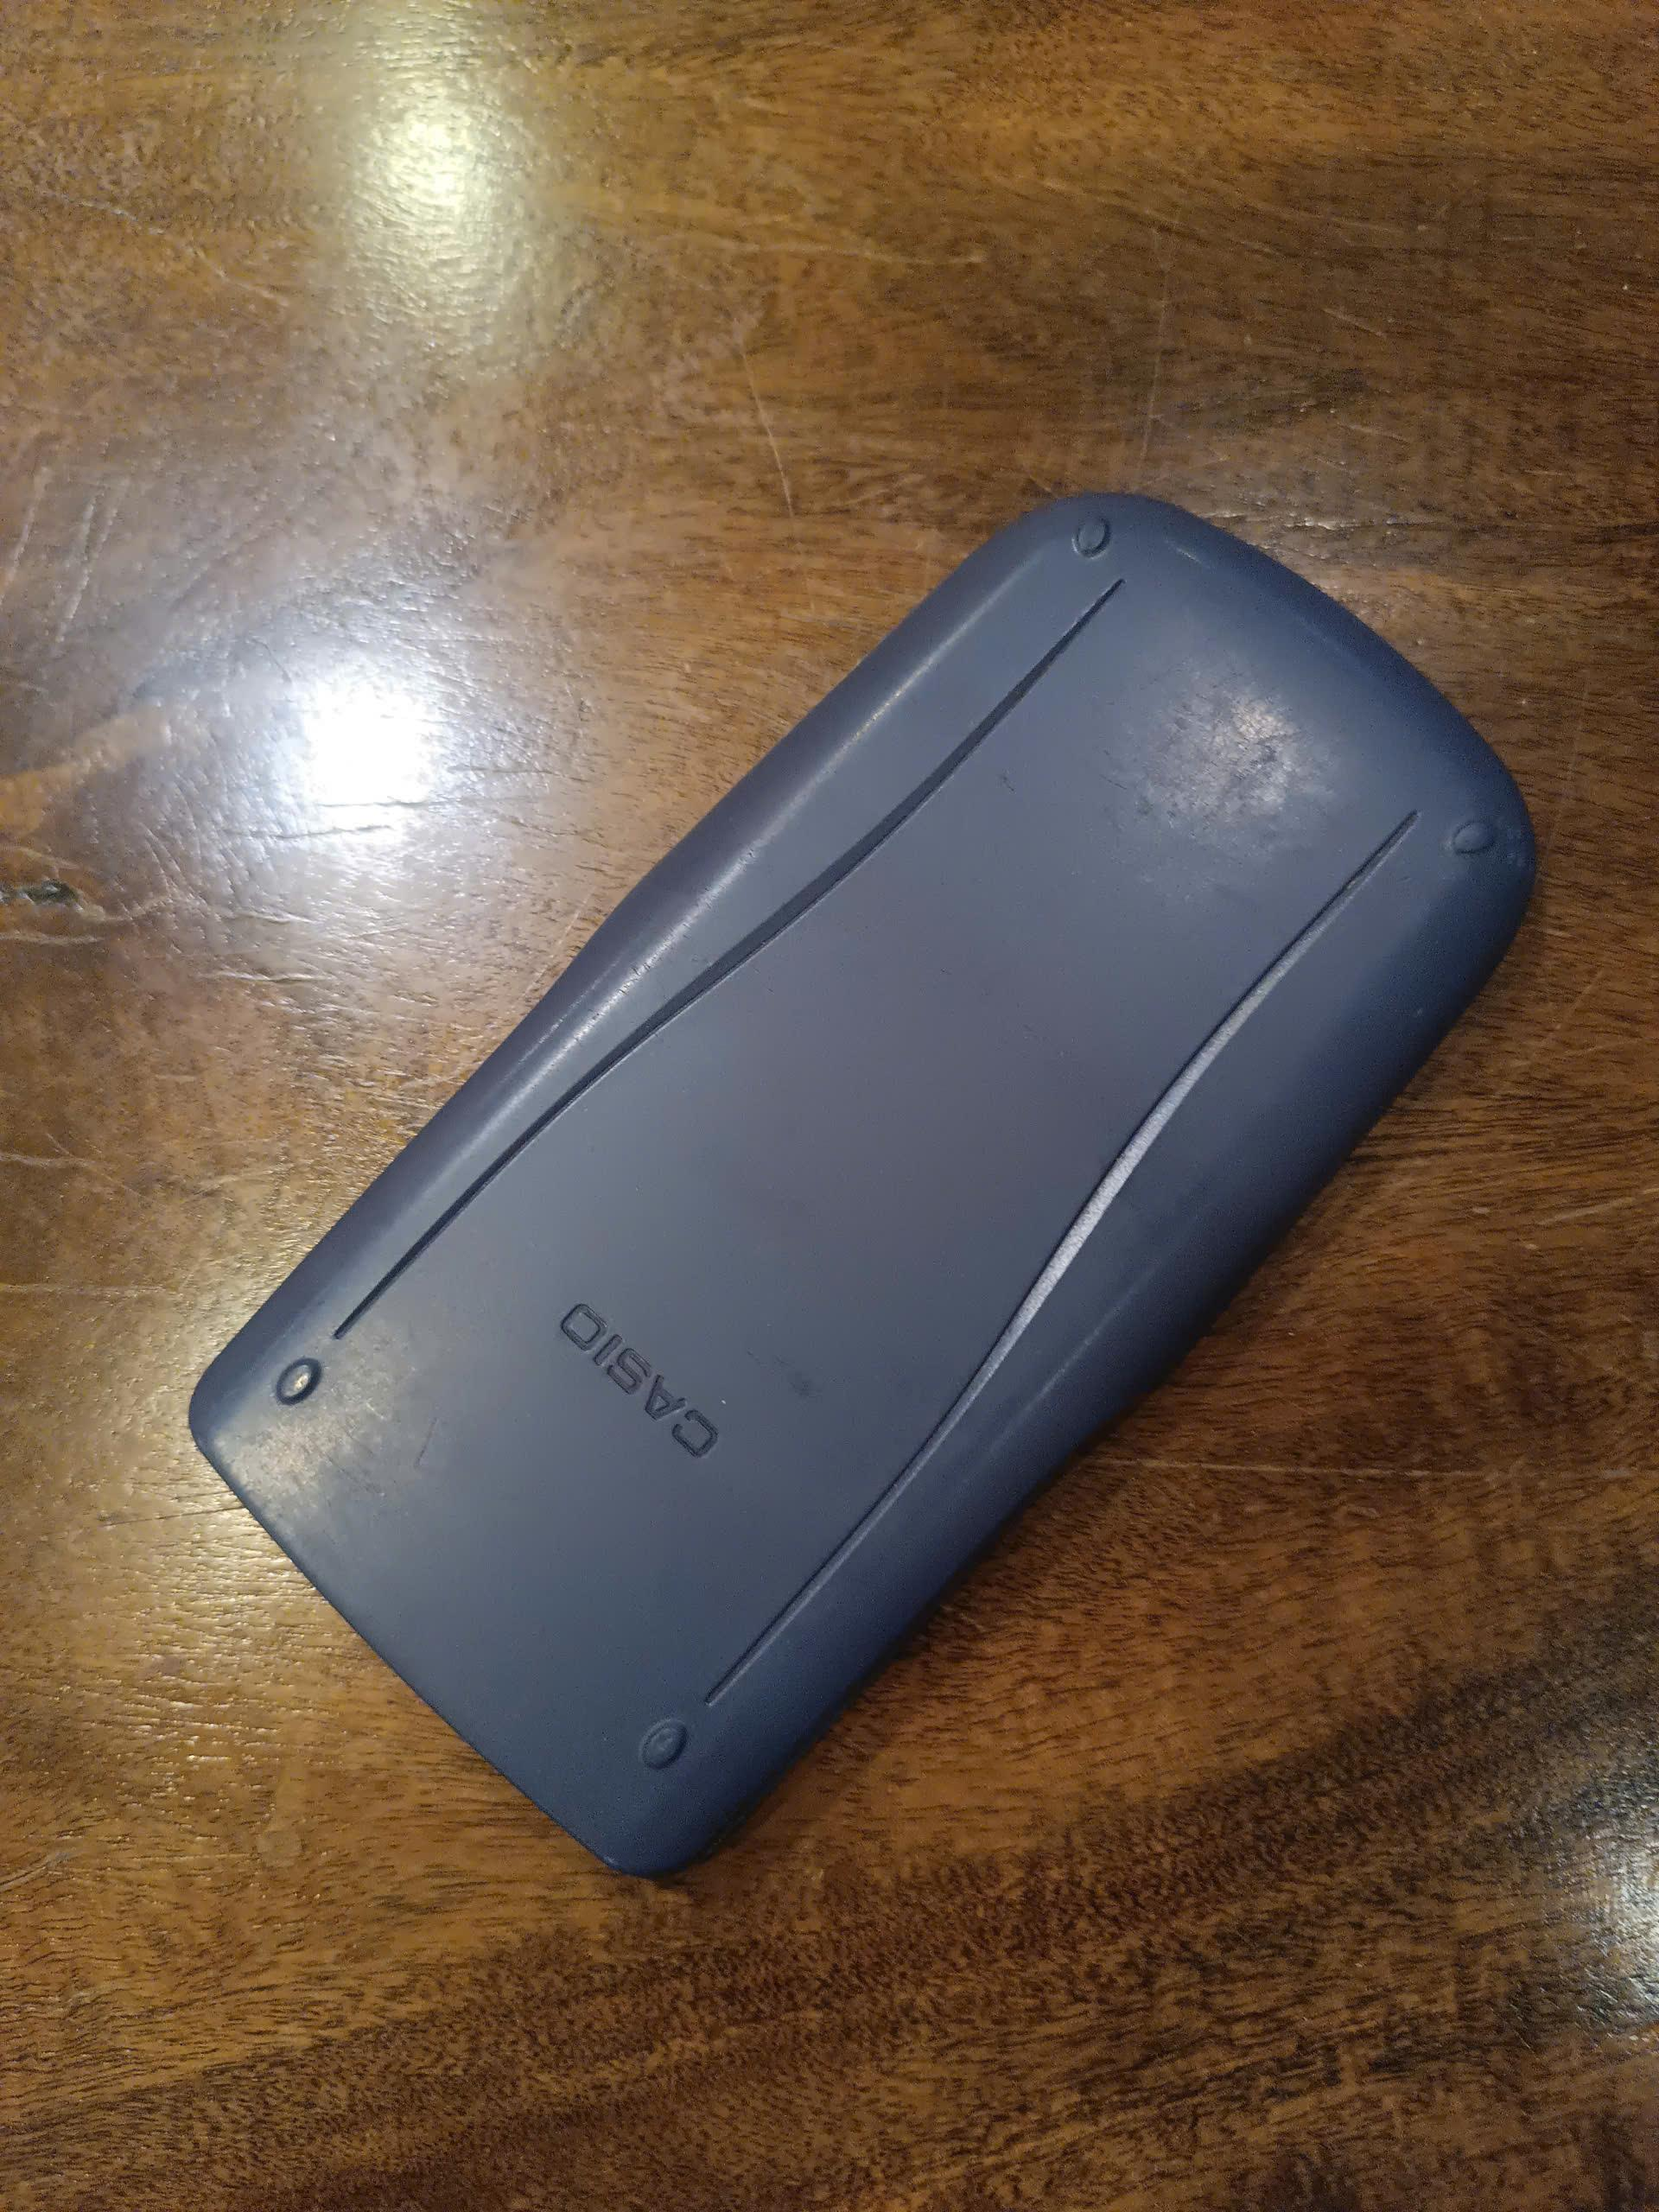Con lai: (190, 472, 1539, 1874)
